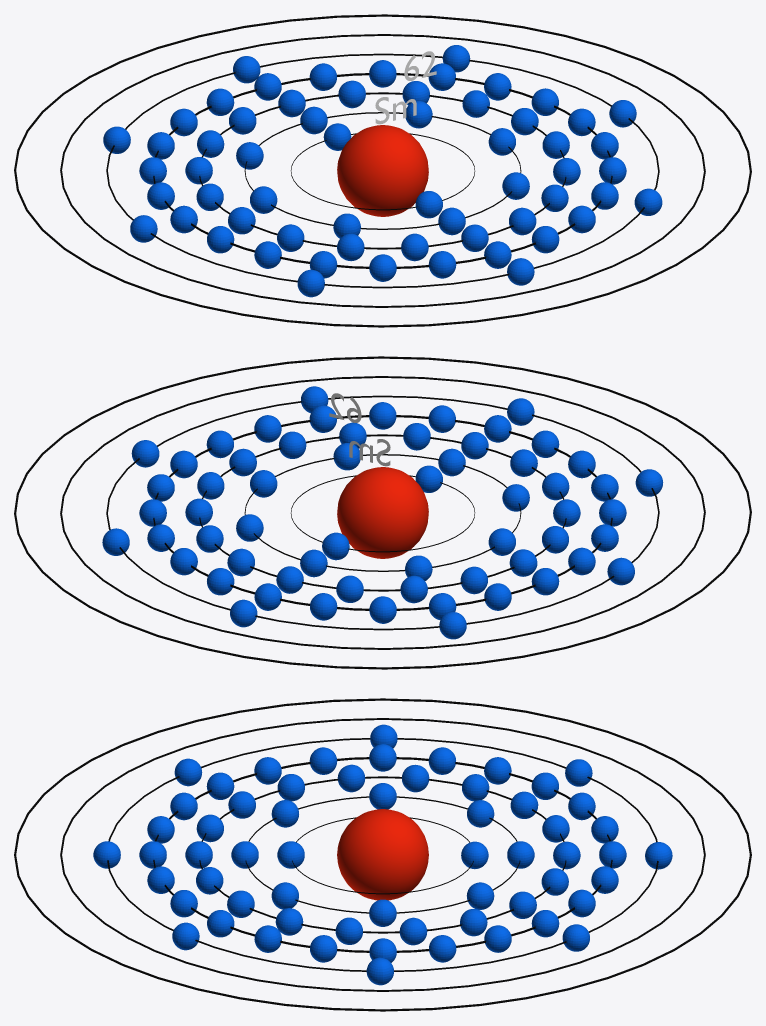
3 renders of one model, top to bottom at view 1: azimuth 30°, elevation 25°; view 2: azimuth 150°, elevation 25°; view 3: azimuth 270°, elevation 25°, orthographic.
Visible parts, largest first — view 1: Sm4, Sm3, Proton, Sm5, n7, Sm2, n6, n5, n4, Sm1, n3, n2; view 2: Sm4, Sm3, Proton, Sm5, Sm2, n7, n6, n5, n4, Sm1, n3, n2; view 3: Sm4, Sm3, Proton, Sm2, Sm5, n7, n6, n5, n4, Sm1, n3, n2 (+1 smaller).
Boxes of the visible parts, box(x1,y1,x2,y2) form: Sm4: box(139, 60, 626, 281); Sm3: box(185, 80, 580, 261); Proton: box(337, 125, 428, 216); Sm5: box(103, 45, 662, 297); n7: box(14, 14, 751, 327); Sm2: box(236, 101, 529, 238); n6: box(60, 34, 705, 307); n5: box(106, 53, 659, 288); n4: box(153, 73, 612, 268); Sm1: box(323, 123, 442, 218); n3: box(199, 92, 566, 249); n2: box(244, 112, 521, 229); Sm4: box(139, 402, 626, 623); Sm3: box(185, 422, 580, 603); Proton: box(337, 467, 428, 558); Sm5: box(102, 386, 663, 639); Sm2: box(236, 443, 529, 580); n7: box(14, 356, 751, 669); n6: box(60, 376, 705, 649); n5: box(106, 395, 659, 630); n4: box(153, 415, 612, 610); Sm1: box(322, 465, 442, 560); n3: box(199, 434, 566, 591); n2: box(244, 454, 521, 571); Sm4: box(139, 744, 626, 962); Sm3: box(185, 764, 580, 945); Proton: box(337, 809, 428, 900); Sm2: box(231, 783, 534, 926); Sm5: box(93, 724, 672, 985); n7: box(14, 698, 751, 1011); n6: box(60, 718, 705, 991); n5: box(107, 738, 658, 971); n4: box(153, 757, 612, 952); Sm1: box(277, 841, 488, 869); n3: box(199, 776, 566, 933); n2: box(245, 796, 520, 913).
Bounding box in the file's own units: 802 × 180 × 802.
